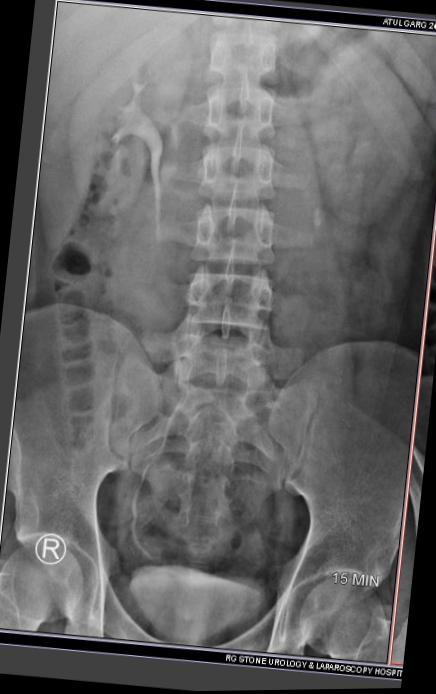bladder: (92, 573, 264, 684)
left kidney: (284, 15, 430, 237)
right kidney: (30, 0, 191, 231)
vertebrae: (184, 65, 274, 140)
